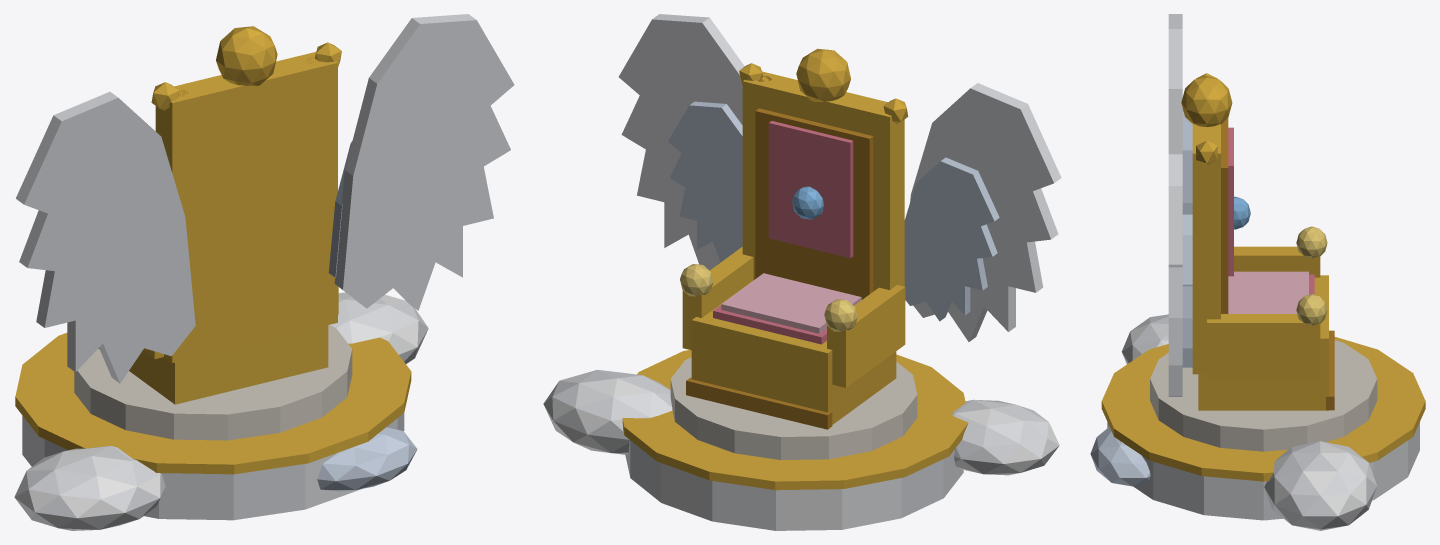
The model's file is Decor_CloudTemple_CloudThrone.fbx.
3 renders of one model, left to right at view 1: azimuth 30°, elevation 25°; view 2: azimuth 150°, elevation 25°; view 3: azimuth 270°, elevation 25°, orthographic. The views are drawn at different scales.
Visible parts, largest first — view 1: CloudThrone_Body; view 2: CloudThrone_Body; view 3: CloudThrone_Body.
Boxes of the visible parts, bbox=[...] form: CloudThrone_Body: bbox=[14, 14, 514, 530]; CloudThrone_Body: bbox=[543, 14, 1061, 530]; CloudThrone_Body: bbox=[1090, 14, 1425, 530].
Size of the model in its own units: 15.8 by 13.5 by 11.
